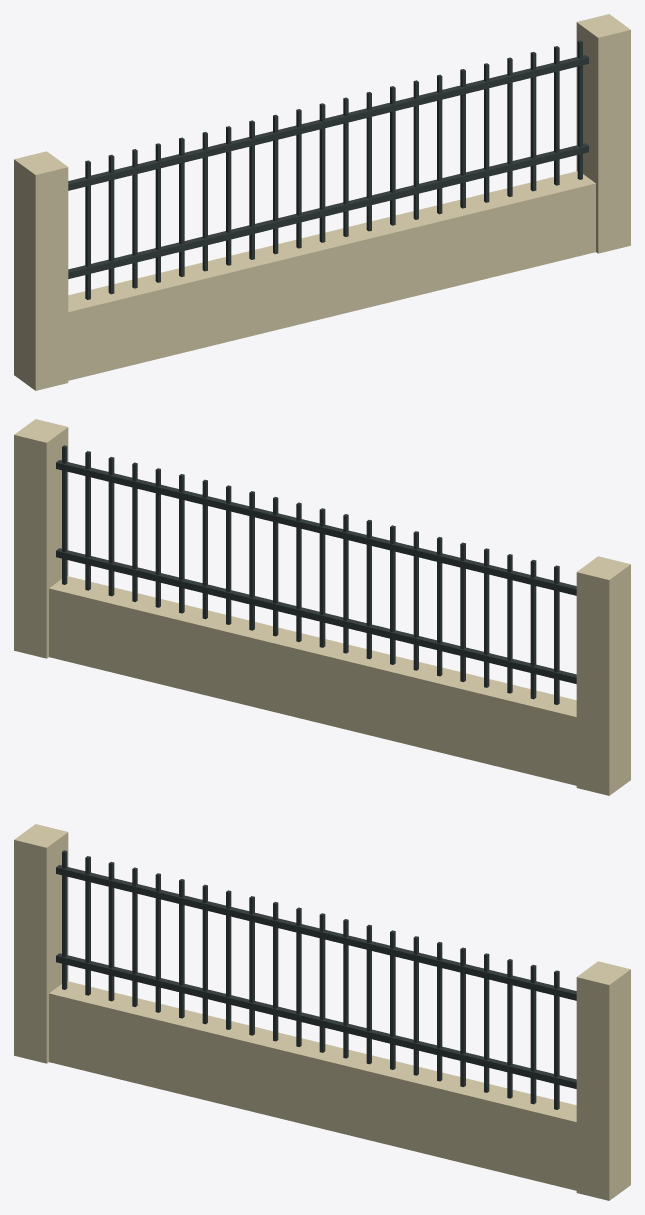
Rendered from fence_6m.glb.
The picture shows the model from 3 angles, top to bottom: view 1: azimuth 30°, elevation 25°; view 2: azimuth 150°, elevation 25°; view 3: azimuth 330°, elevation 25°; orthographic projection.
Visible parts, largest first — view 1: fence_6m; view 2: fence_6m; view 3: fence_6m.
Boxes of the visible parts, <box> form: fence_6m: <box>14,14,630,390</box>; fence_6m: <box>14,419,630,795</box>; fence_6m: <box>14,824,630,1200</box>.
Bounding box in the file's own units: 6.35 × 2.2 × 0.4.
